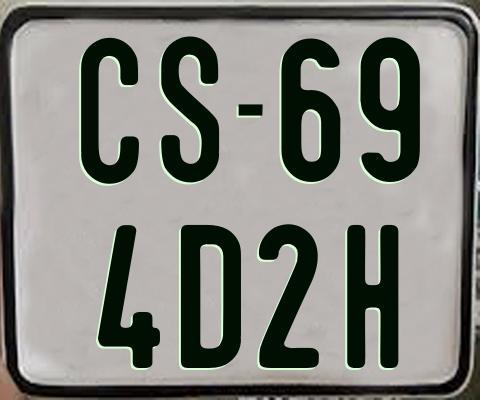2: (257, 223, 318, 367)
4: (97, 225, 164, 372)
6: (281, 35, 346, 181)
9: (358, 35, 423, 183)
C: (81, 35, 141, 181)
D: (179, 224, 244, 369)
H: (347, 224, 403, 371)
S: (159, 34, 220, 186)
